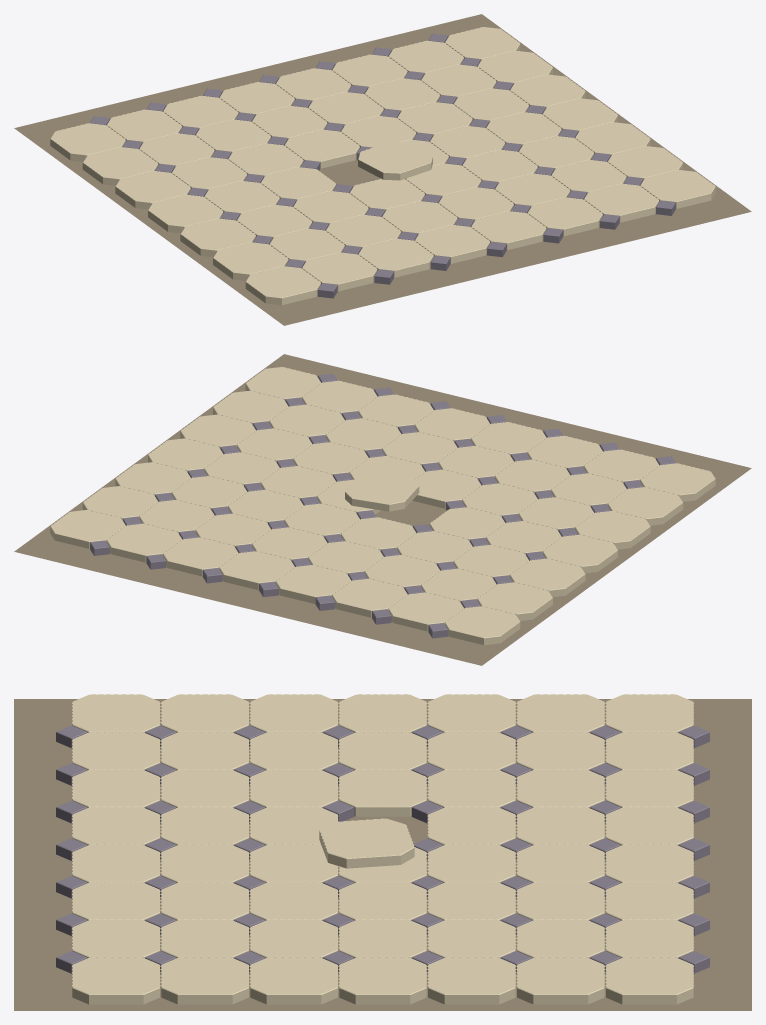
File: terilgan.glb
3 renders of one model, top to bottom at view 1: azimuth 30°, elevation 25°; view 2: azimuth 150°, elevation 25°; view 3: azimuth 270°, elevation 25°, orthographic. The views are drawn at different scales.
Parts seen in each view (by area): view 1: qum, t.027, t, t.007, t.001, t.005, t.003, t.035, t.004, t.002, t.006, t.040 (+44 smaller); view 2: qum, t.027, t.048, t.055, t.049, t.053, t.051, t.052, t.050, t.054, t.008, t (+45 smaller); view 3: qum, t.027, t.031, t.007, t.055, t.015, t.023, t.039, t.047, t.026, t.030, t.002 (+45 smaller).
Part boxes in pixels (x1,y1,x2,y2): qum: [14, 14, 751, 325]; t.027: [358, 141, 432, 180]; t: [245, 266, 320, 305]; t.007: [640, 170, 715, 208]; t.001: [302, 252, 377, 291]; t.005: [527, 197, 602, 236]; t.003: [414, 225, 490, 263]; t.035: [284, 129, 359, 168]; t.004: [471, 211, 546, 250]; t.002: [358, 238, 433, 277]; t.006: [584, 183, 659, 222]; t.040: [82, 147, 158, 185]; qum: [14, 354, 751, 665]; t.027: [345, 473, 419, 511]; t.048: [445, 606, 520, 645]; t.055: [50, 510, 125, 548]; t.049: [388, 592, 463, 631]; t.053: [163, 537, 238, 576]; t.051: [275, 565, 351, 603]; t.052: [219, 551, 294, 590]; t.050: [332, 578, 407, 617]; t.054: [106, 523, 181, 562]; t.008: [607, 487, 683, 525]; t: [640, 463, 715, 501]; qum: [14, 699, 751, 1010]; t.027: [319, 818, 414, 868]; t.031: [338, 957, 427, 1004]; t.007: [72, 957, 160, 1004]; t.055: [605, 957, 693, 1004]; t.015: [161, 957, 249, 1004]; t.023: [249, 957, 338, 1004]; t.039: [427, 957, 516, 1004]; t.047: [516, 957, 604, 1004]; t.026: [338, 769, 427, 816]; t.030: [338, 919, 427, 958]; t.002: [72, 769, 160, 807].
Bounding box in the file's own units: 1.66 × 0.052 × 1.66.
